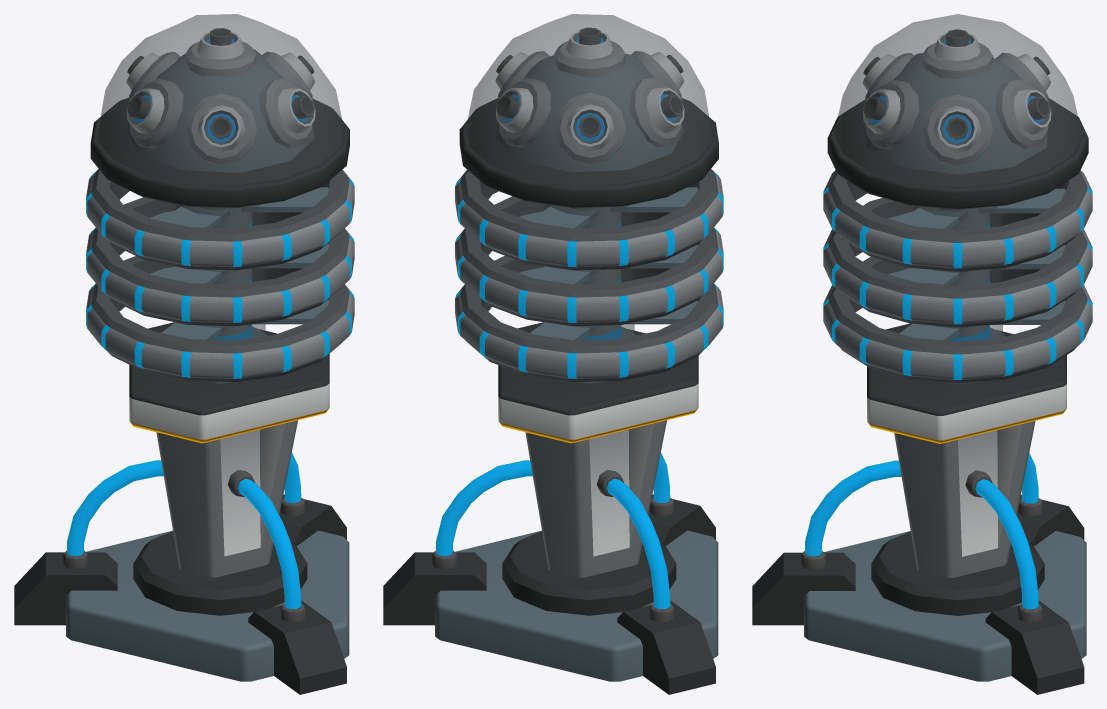
The model's file is Turret_014.glb.
The picture shows the model from 3 angles, left to right: view 1: azimuth 30°, elevation 25°; view 2: azimuth 150°, elevation 25°; view 3: azimuth 270°, elevation 25°; orthographic projection.
Visible parts, largest first — view 1: Turret_014; view 2: Turret_014; view 3: Turret_014.
Part boxes in pixels (x1,y1,x2,y2): Turret_014: (14, 14, 354, 694); Turret_014: (383, 14, 723, 694); Turret_014: (752, 14, 1092, 694).
Size of the model in its own units: 1.07 by 1.82 by 0.9519.
Materials: 3 (3 with a texture image).
